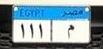1: (19, 21, 28, 40), (27, 22, 36, 40), (37, 23, 46, 40)
meem: (63, 22, 74, 39)
